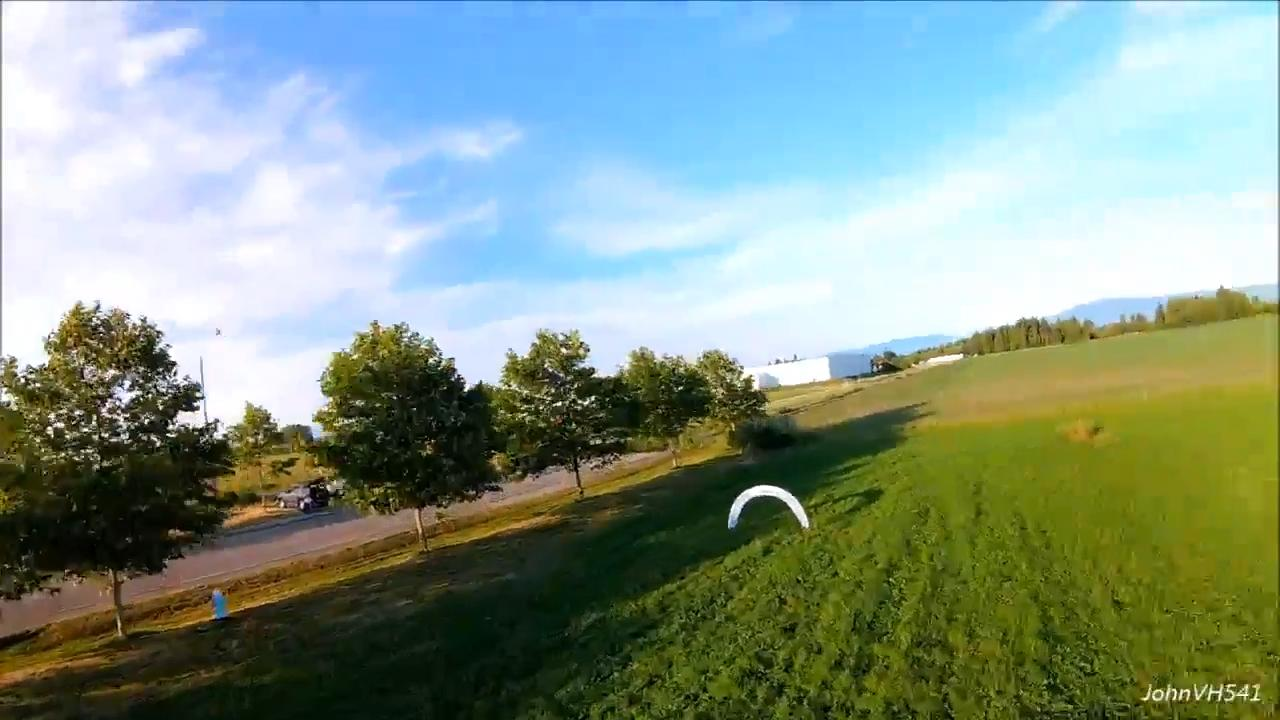gate: (727, 484, 810, 529)
